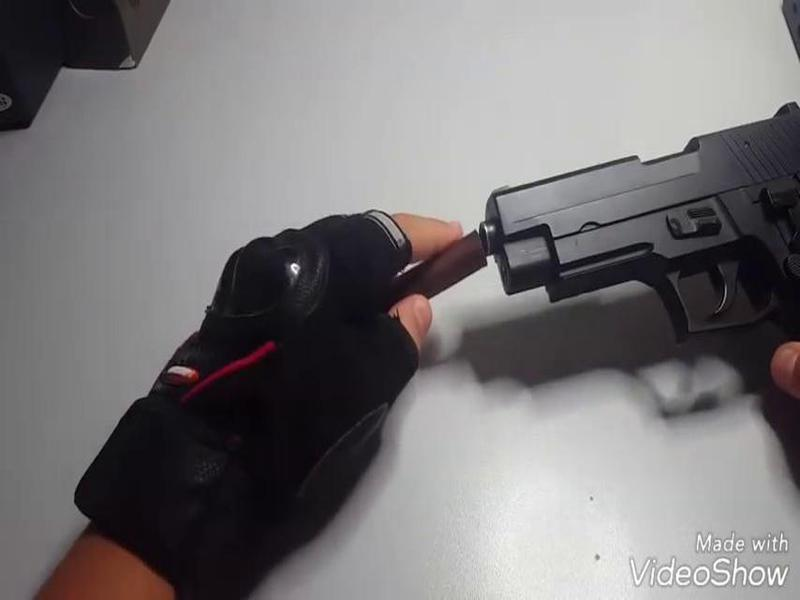Pistola: (481, 93, 800, 386)
